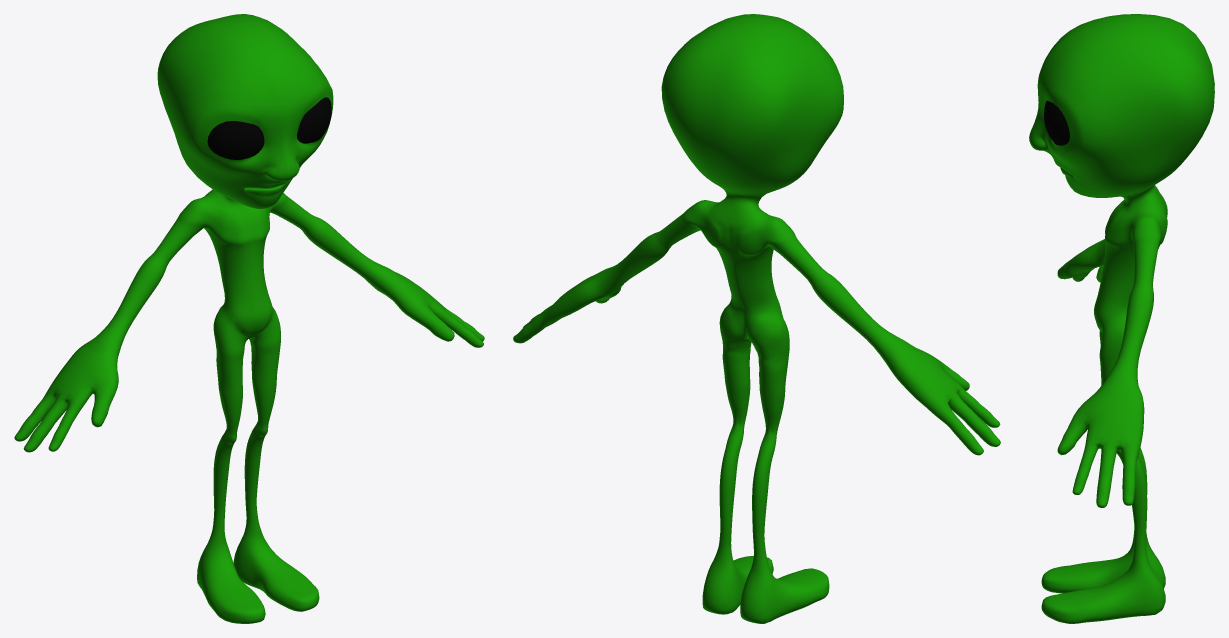
Rendered from alien.fbx.
3 renders of one model, left to right at view 1: azimuth 30°, elevation 25°; view 2: azimuth 150°, elevation 25°; view 3: azimuth 270°, elevation 25°, orthographic. The views are drawn at different scales.
Parts seen in each view (by area): view 1: Argise; view 2: Argise; view 3: Argise.
Part boxes in pixels (x1,y1,x2,y2): Argise: [14, 14, 484, 623]; Argise: [513, 14, 1000, 623]; Argise: [1029, 14, 1214, 623].
Bounding box in the file's own units: 758 × 887 × 258.
